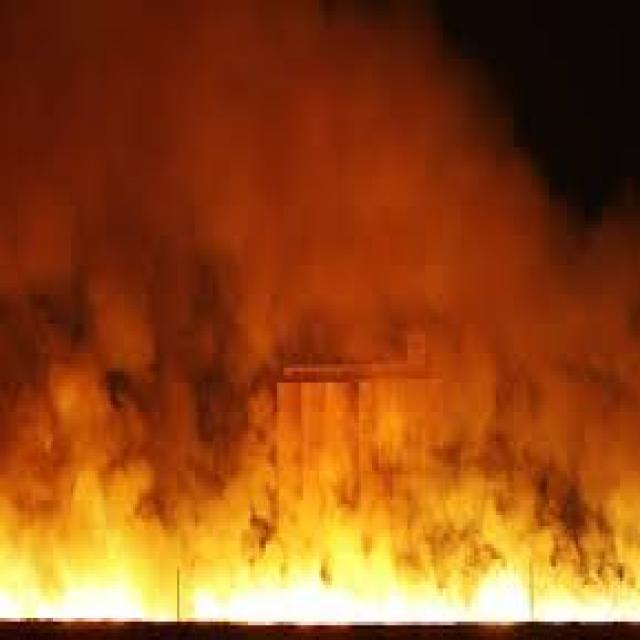Fire: (0, 500, 639, 630)
Smoke: (330, 4, 640, 350), (6, 330, 640, 495)
